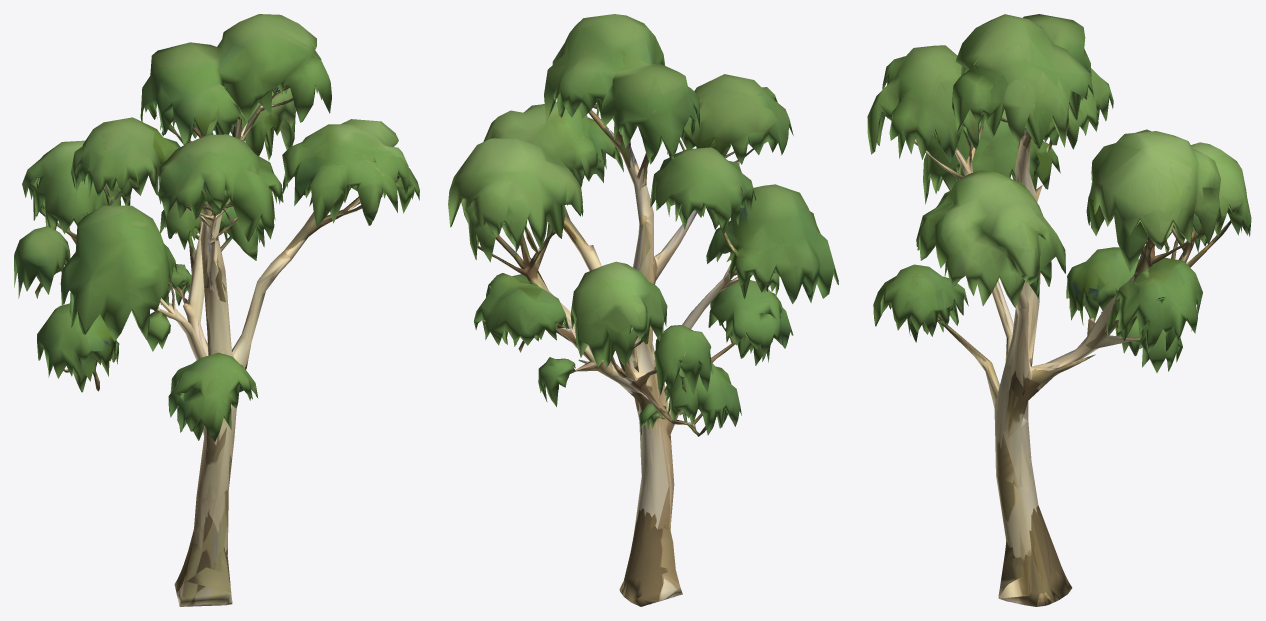
The model's file is Eucalyptus 03.fbx.
The picture shows the model from 3 angles, left to right: view 1: azimuth 30°, elevation 25°; view 2: azimuth 150°, elevation 25°; view 3: azimuth 270°, elevation 25°; orthographic projection. The views are drawn at different scales.
Parts seen in each view (by area): view 1: Mesh_0; view 2: Mesh_0; view 3: Mesh_0.
Boxes of the visible parts, box(x1,y1,x2,y2) form: Mesh_0: box(14, 14, 419, 606); Mesh_0: box(448, 14, 838, 606); Mesh_0: box(867, 14, 1251, 606).
Bounding box in the file's own units: 119 × 190 × 110.
